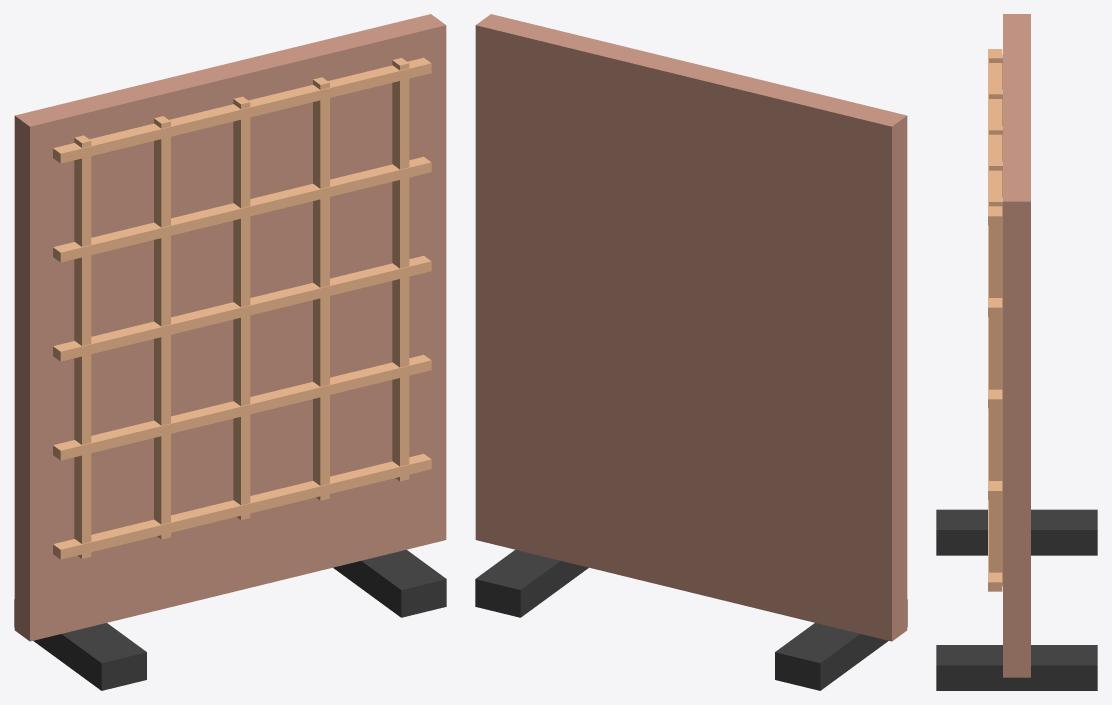
3 renders of one model, left to right at view 1: azimuth 30°, elevation 25°; view 2: azimuth 150°, elevation 25°; view 3: azimuth 270°, elevation 25°, orthographic. The views are drawn at different scales.
Parts seen in each view (by area): view 1: Panel, Lattice upright.004, Lattice upright.002, Lattice upright, Lattice crossbar.004, Lattice crossbar.002, Lattice crossbar.001, Lattice crossbar.003, Lattice crossbar, Lattice upright.003, Lattice upright.001, Panel foot (+1 smaller); view 2: Panel, Panel foot, Panel foot.001; view 3: Panel, Panel foot.001, Panel foot, Lattice upright.004, Lattice crossbar.004, Lattice crossbar, Lattice crossbar.002, Lattice crossbar.001, Lattice crossbar.003.
Boxes of the visible parts, x1,y1,x2,y2 form: Panel: (14,14,446,641); Lattice upright.004: (392,58,409,481); Lattice upright.002: (233,96,250,519); Lattice upright: (74,135,91,558); Lattice crossbar.004: (53,57,431,163); Lattice crossbar.002: (53,255,431,361); Lattice crossbar.001: (53,354,431,460); Lattice crossbar.003: (53,156,431,262); Lattice crossbar: (53,454,431,559); Lattice upright.003: (313,77,329,500); Lattice upright.001: (154,116,170,539); Panel foot: (14,599,146,690); Panel: (475,14,907,641); Panel foot: (775,599,907,690); Panel foot.001: (475,549,588,617); Panel: (1003,14,1030,677); Panel foot.001: (936,645,1097,690); Panel foot: (936,509,1097,555); Lattice upright.004: (989,197,1002,586); Lattice crossbar.004: (988,49,1002,225); Lattice crossbar: (988,500,1002,591); Lattice crossbar.002: (988,317,1002,408); Lattice crossbar.001: (988,408,1002,499); Lattice crossbar.003: (988,225,1002,316).
Bounding box in the file's own units: 110 × 138 × 40.
